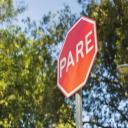Pare: (57, 14, 99, 99)
